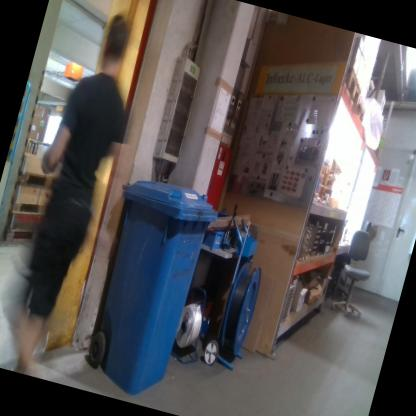pallet: (335, 68, 365, 114), (10, 192, 48, 220), (0, 222, 36, 250), (18, 168, 56, 189), (353, 96, 372, 126)
pallet_truck: (26, 138, 41, 156)
